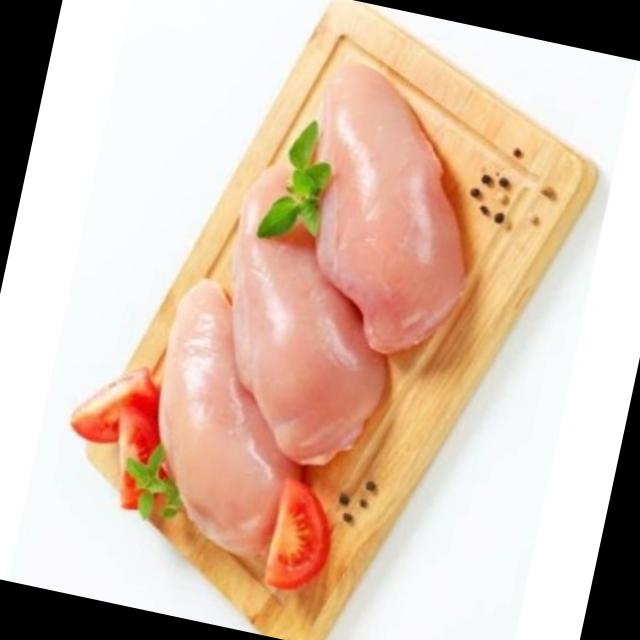Ayam: (188, 161, 423, 478), (283, 58, 495, 360), (130, 274, 310, 555)
